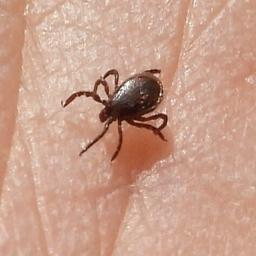Ixodes scapularis: (61, 66, 170, 161)
